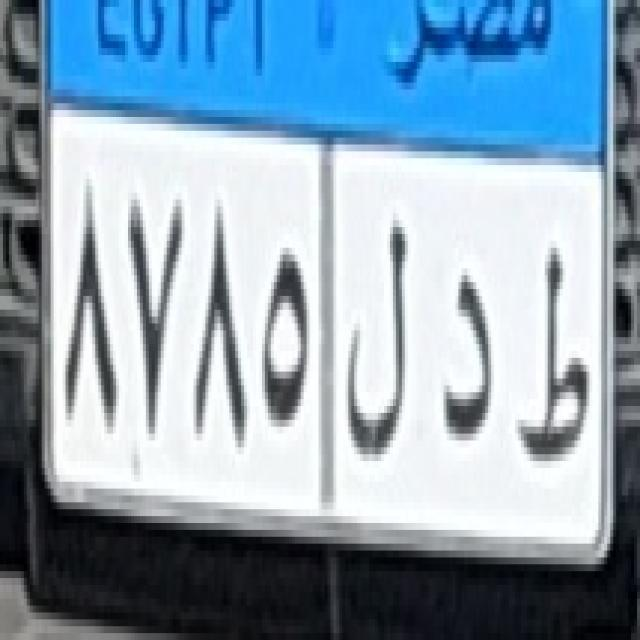5: (254, 252, 319, 439)
7: (120, 191, 192, 446)
8: (186, 193, 255, 462), (64, 180, 132, 447)
Laam: (334, 206, 416, 472)
Taa: (507, 232, 595, 473)
daal: (430, 247, 504, 454)
